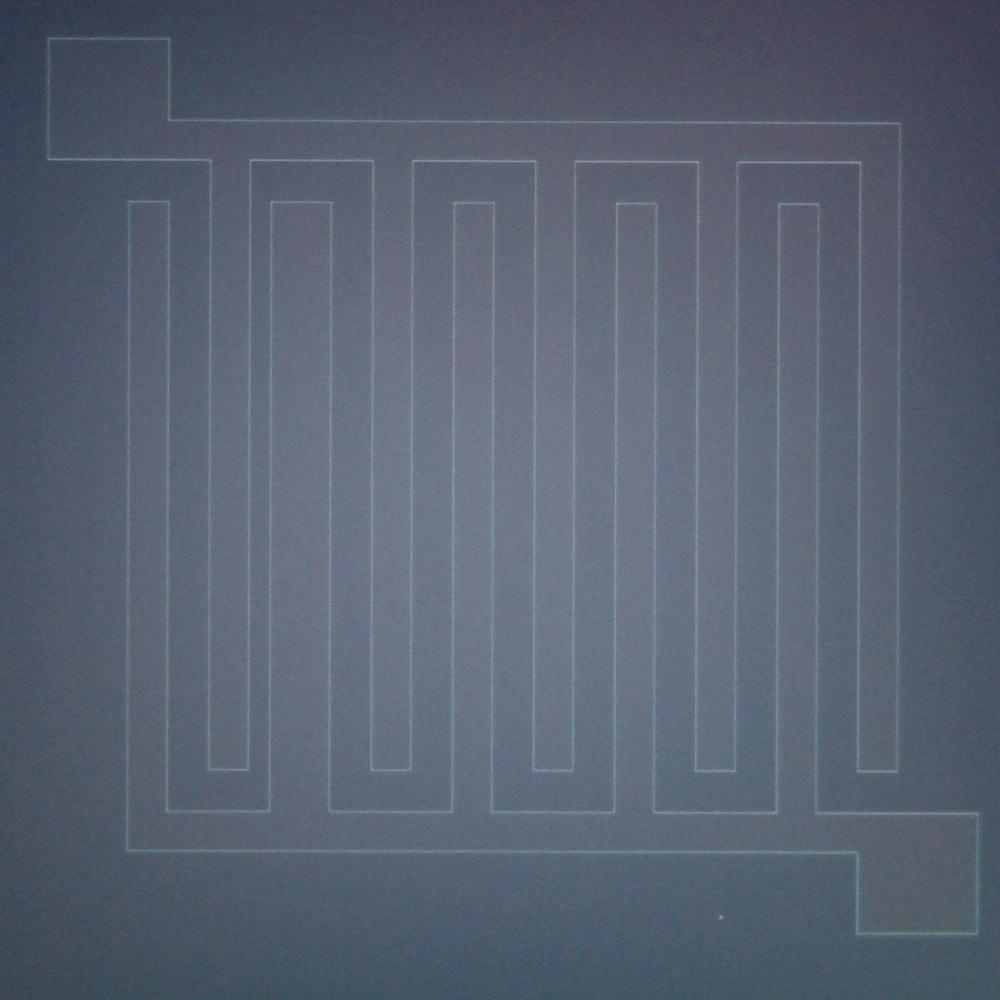dot: (718, 914, 724, 920)
